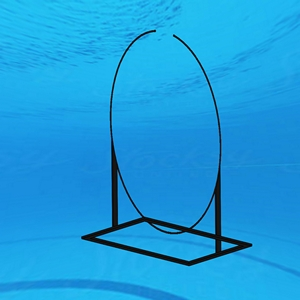circle: (78, 25, 258, 271)
